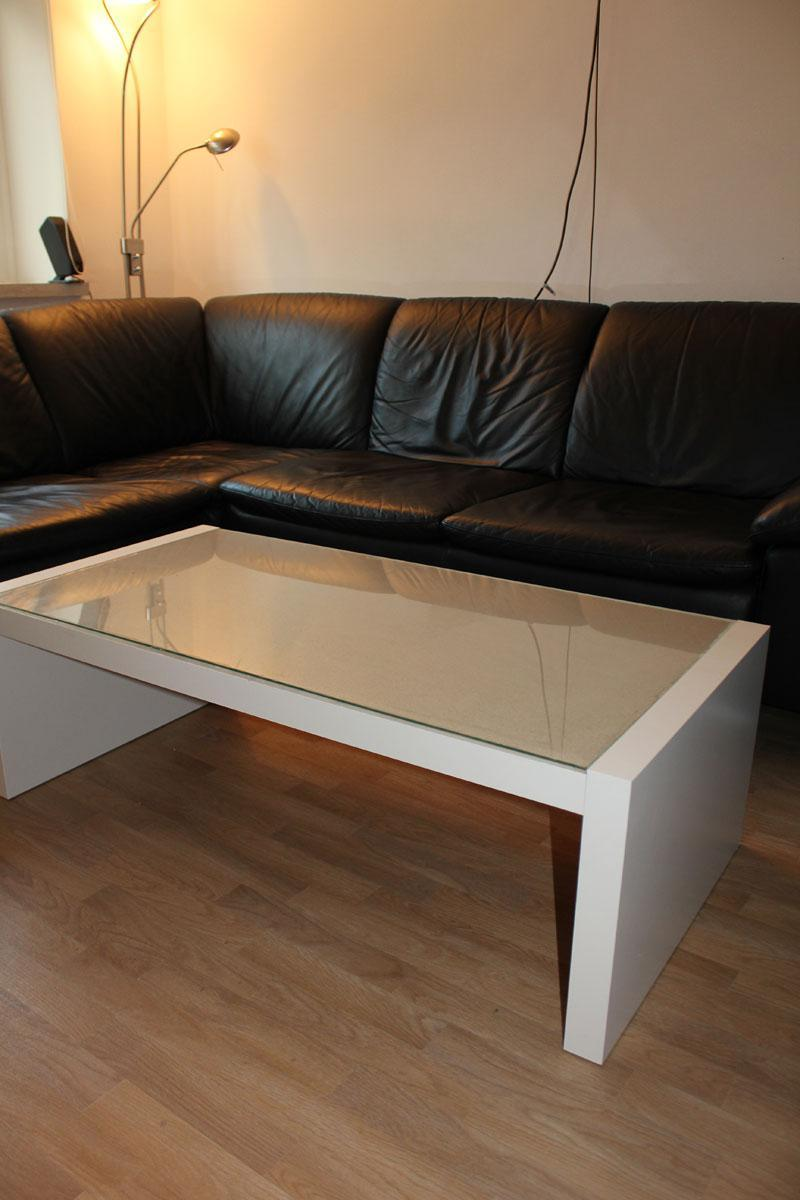Table: (0, 511, 786, 1071)
